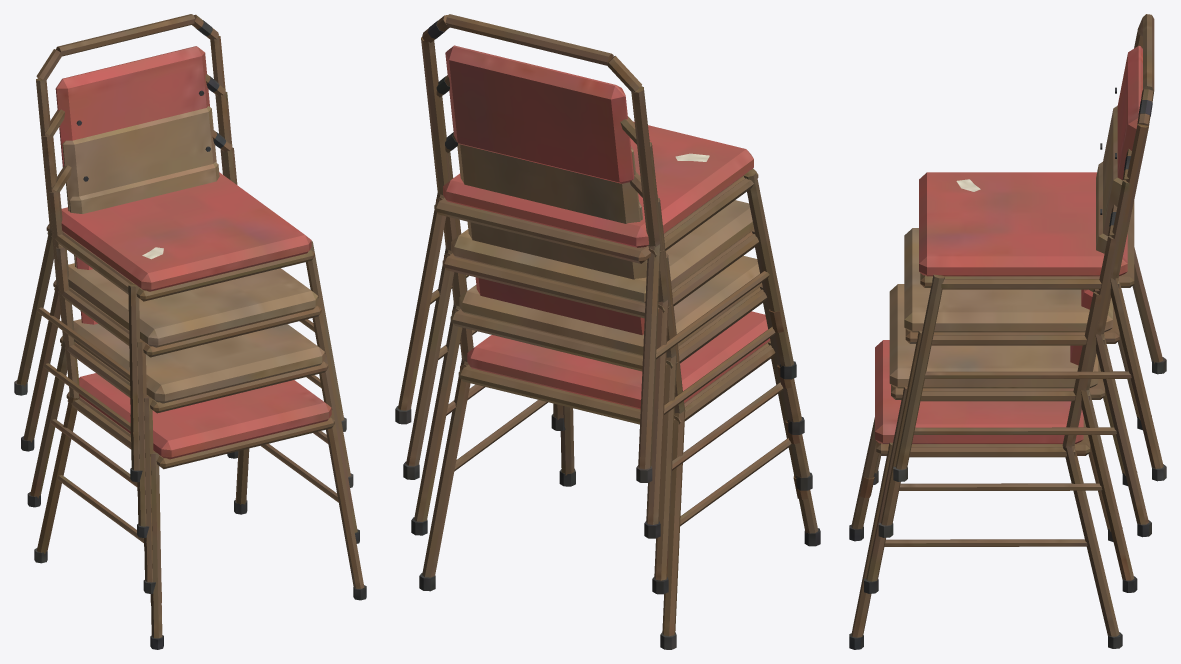
The model's file is Q18_banquet_chairs_stack.glb.
3 renders of one model, left to right at view 1: azimuth 30°, elevation 25°; view 2: azimuth 150°, elevation 25°; view 3: azimuth 270°, elevation 25°, orthographic. The views are drawn at different scales.
Visible parts, largest first — view 1: Pressed seat pan; view 2: Pressed seat pan; view 3: Pressed seat pan.
Part boxes in pixels (left/top/right/bottom): Pressed seat pan: left=14, top=14, right=366, bottom=649; Pressed seat pan: left=395, top=14, right=820, bottom=649; Pressed seat pan: left=849, top=14, right=1166, bottom=649.
Size of the model in its own units: 0.5451 by 1.2 by 0.6357.
Materials: 7 (7 with a texture image).
